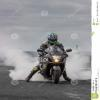motorcycles: (38, 47, 67, 84)
